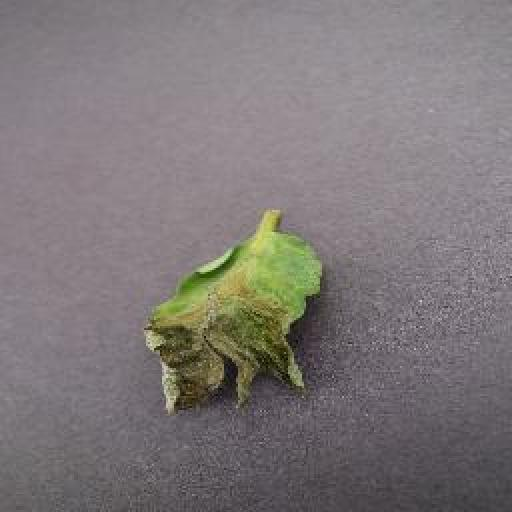disease_tomato: (145, 227, 323, 420)
